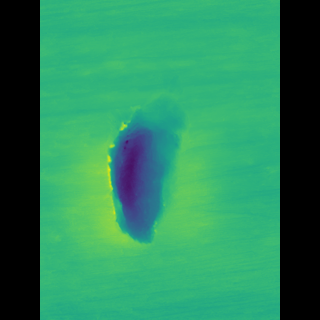Loch: (114, 69, 187, 244)
